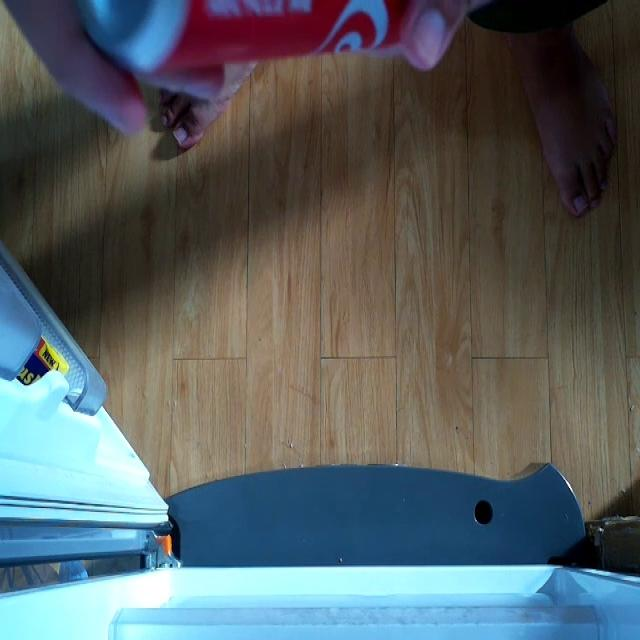coke: (78, 0, 419, 69)
